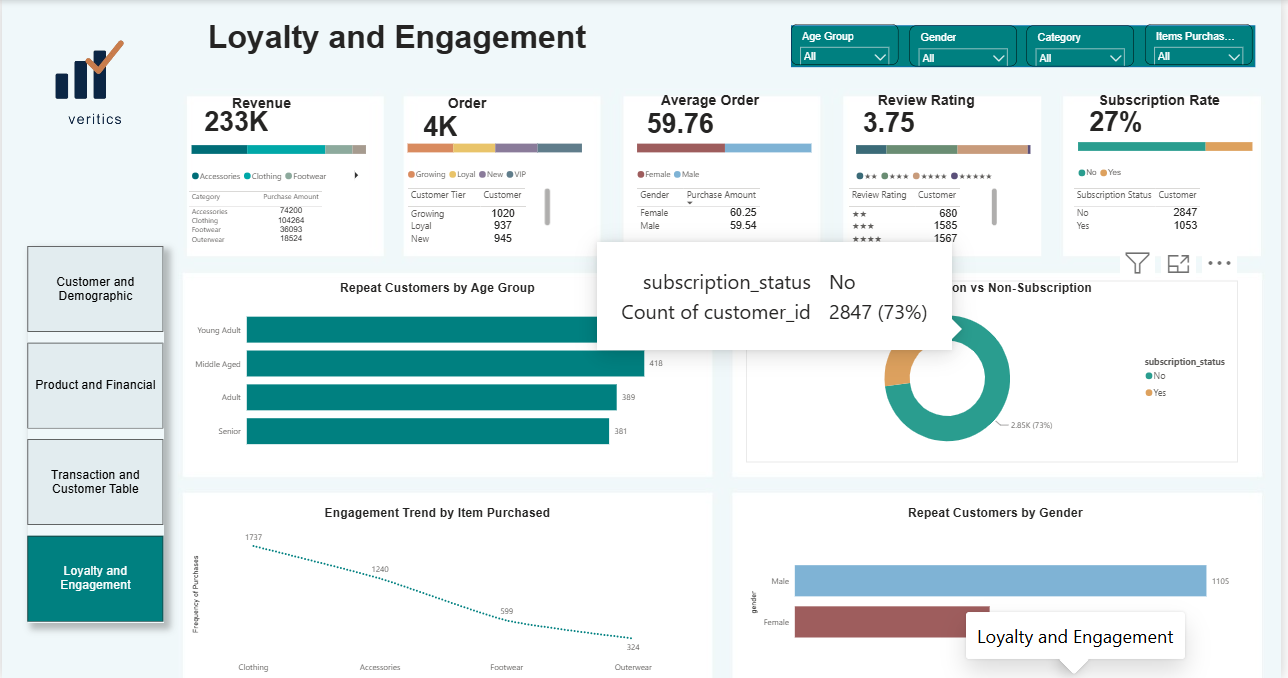

This screenshot's page, from the dashboard's own definition file:
{"tool":"powerbi","page":{"name":"Loyalty and Engagement ","canvas":[1920,1020],"ordinal":3},"visuals":[{"type":"clusteredBarChart","title":"Repeat Customers by Age Group","fields":{"Category":["Orders.age_group"],"Y":["Count(Orders.customer_id)"]},"box":[279.4,422.5,749.5,272.6],"z":0},{"type":"donutChart","title":"Subscription vs Non-Subscription","fields":{"Y":["Count(Orders.customer_id)"],"Category":["Orders.subscription_status"]},"box":[1117.5,422.5,738.2,272.6],"z":1000},{"type":"lineChart","title":"Engagement Trend by Item Purchased","fields":{"Category":["Orders.category"],"Y":["CountNonNull(Orders.frequency_of_purchases)"]},"box":[279.4,758.6,749.5,261.2],"z":2000},{"type":"clusteredBarChart","title":"Repeat Customers by Gender","fields":{"Category":["Orders.gender"],"Y":["DAX.Repeat Customers by Gender"]},"box":[1117.5,758.6,749.5,261.2],"z":3000},{"type":"textbox","box":[304.4,22.7,781.3,93.1],"z":4000},{"type":"image","box":[22.7,15.9,236.2,202.1],"z":5000},{"type":"cardVisual","fields":{"Data":["DAX.Total Revenue"]},"box":[274.8,134,168.1,95.4],"z":6000},{"type":"cardVisual","fields":{"Data":["DAX.Total Orders"]},"box":[604.2,136.3,163.5,106.8],"z":7000},{"type":"cardVisual","fields":{"Data":["DAX.Avg Order Value"]},"box":[940.3,136.3,177.2,95.4],"z":8000},{"type":"cardVisual","fields":{"Data":["DAX.Avg Review Rating"]},"box":[1265.1,138.5,136.3,90.9],"z":9000},{"type":"cardVisual","fields":{"Data":["DAX.Subscription Rate %"]},"box":[1603.5,134,143.1,95.4],"z":10000},{"type":"textbox","box":[274.9,137.5,229.8,56.3],"z":11000},{"type":"hundredPercentStackedBarChart","fields":{"Y":["Sum(Orders.purchase_amount)"],"Series":["Orders.category"]},"box":[279.4,186.2,272.6,95.4],"z":12000},{"type":"pivotTable","fields":{"Rows":["Orders.category"],"Values":["Sum(Orders.purchase_amount)"]},"box":[274.8,281.6,229.4,90.9],"z":13000},{"type":"hundredPercentStackedBarChart","fields":{"Series":["Orders.customer_value_tier"],"Y":["CountNonNull(Orders.customer_id)"]},"box":[604.2,184,272.6,95.4],"z":14000},{"type":"pivotTable","fields":{"Rows":["Orders.customer_value_tier"],"Values":["CountNonNull(Orders.customer_id)"]},"box":[604.2,277.1,224.9,90.9],"z":15000},{"type":"textbox","box":[585.9,137.5,225.3,56.3],"z":16000},{"type":"hundredPercentStackedBarChart","fields":{"Y":["Avg(Orders.purchase_amount)"],"Series":["Orders.gender"]},"box":[949.4,184,272.6,95.4],"z":17000},{"type":"pivotTable","fields":{"Rows":["Orders.gender"],"Values":["Avg(Orders.purchase_amount)"]},"box":[949.4,277.1,211.2,90.9],"z":18000},{"type":"hundredPercentStackedBarChart","fields":{"Series":["Orders.review_rating_stars"],"Y":["CountNonNull(Orders.customer_id)"]},"box":[1278.7,186.2,272.6,95.4],"z":19000},{"type":"pivotTable","fields":{"Rows":["Orders.review_rating_stars"],"Values":["CountNonNull(Orders.customer_id)"]},"box":[1267.4,277.1,233.9,90.9],"z":20000},{"type":"hundredPercentStackedBarChart","fields":{"Y":["CountNonNull(Orders.customer_id)"],"Series":["Orders.subscription_status"]},"box":[1610.4,181.7,272.6,95.4],"z":21000},{"type":"pivotTable","fields":{"Rows":["Orders.subscription_status"],"Values":["CountNonNull(Orders.customer_id)"]},"box":[1603.5,277.1,224.9,90.9],"z":22000},{"type":"textbox","box":[905.9,132.9,315.5,60.8],"z":23000},{"type":"textbox","box":[1275.4,132.9,232.1,60.8],"z":24000},{"type":"textbox","box":[1541.3,132.9,329,60.8],"z":25000},{"type":"shape","box":[1185,37.5,697.5,62.5],"z":27000},{"type":"slicer","fields":{"Values":["Orders.age_group"]},"box":[1185.6,36.3,161,61.3],"z":28000},{"type":"slicer","fields":{"Values":["Orders.gender"]},"box":[1362.7,38.6,161.3,61.3],"z":29000},{"type":"slicer","fields":{"Values":["Orders.category"]},"box":[1540,38.6,161,61.3],"z":30000},{"type":"slicer","fields":{"Values":["Orders.item_purchased"]},"box":[1717.1,36.3,161,61.3],"z":31000},{"type":"pageNavigator","box":[38.6,369.3,205,566.2],"z":31001}]}

Visuals, with their boxes on the page's 1920x1020 design canvas (x1, y1, x2, y2). These are canvas units, not pixel positions in the 1288x678 screenshot, which may show the page scaled, cropped or inside an application window:
"Repeat Customers by Age Group" clusteredBarChart: left=279, top=422, right=1029, bottom=695
"Subscription vs Non-Subscription" donutChart: left=1118, top=422, right=1856, bottom=695
"Engagement Trend by Item Purchased" lineChart: left=279, top=759, right=1029, bottom=1020
"Repeat Customers by Gender" clusteredBarChart: left=1118, top=759, right=1867, bottom=1020
textbox: left=304, top=23, right=1086, bottom=116
image: left=23, top=16, right=259, bottom=218
cardVisual - DAX.Total Revenue: left=275, top=134, right=443, bottom=229
cardVisual - DAX.Total Orders: left=604, top=136, right=768, bottom=243
cardVisual - DAX.Avg Order Value: left=940, top=136, right=1118, bottom=232
cardVisual - DAX.Avg Review Rating: left=1265, top=138, right=1401, bottom=229
cardVisual - DAX.Subscription Rate %: left=1604, top=134, right=1747, bottom=229
textbox: left=275, top=138, right=505, bottom=194
hundredPercentStackedBarChart - Sum(Orders.purchase_amount) x Orders.category: left=279, top=186, right=552, bottom=282
pivotTable - Orders.category x Sum(Orders.purchase_amount): left=275, top=282, right=504, bottom=372
hundredPercentStackedBarChart - Orders.customer_value_tier x CountNonNull(Orders.customer_id): left=604, top=184, right=877, bottom=279
pivotTable - Orders.customer_value_tier x CountNonNull(Orders.customer_id): left=604, top=277, right=829, bottom=368
textbox: left=586, top=138, right=811, bottom=194
hundredPercentStackedBarChart - Avg(Orders.purchase_amount) x Orders.gender: left=949, top=184, right=1222, bottom=279
pivotTable - Orders.gender x Avg(Orders.purchase_amount): left=949, top=277, right=1161, bottom=368
hundredPercentStackedBarChart - Orders.review_rating_stars x CountNonNull(Orders.customer_id): left=1279, top=186, right=1551, bottom=282
pivotTable - Orders.review_rating_stars x CountNonNull(Orders.customer_id): left=1267, top=277, right=1501, bottom=368
hundredPercentStackedBarChart - CountNonNull(Orders.customer_id) x Orders.subscription_status: left=1610, top=182, right=1883, bottom=277
pivotTable - Orders.subscription_status x CountNonNull(Orders.customer_id): left=1604, top=277, right=1828, bottom=368
textbox: left=906, top=133, right=1221, bottom=194
textbox: left=1275, top=133, right=1508, bottom=194
textbox: left=1541, top=133, right=1870, bottom=194
shape: left=1185, top=38, right=1882, bottom=100
slicer - Orders.age_group: left=1186, top=36, right=1347, bottom=98
slicer - Orders.gender: left=1363, top=39, right=1524, bottom=100
slicer - Orders.category: left=1540, top=39, right=1701, bottom=100
slicer - Orders.item_purchased: left=1717, top=36, right=1878, bottom=98
pageNavigator: left=39, top=369, right=244, bottom=936
